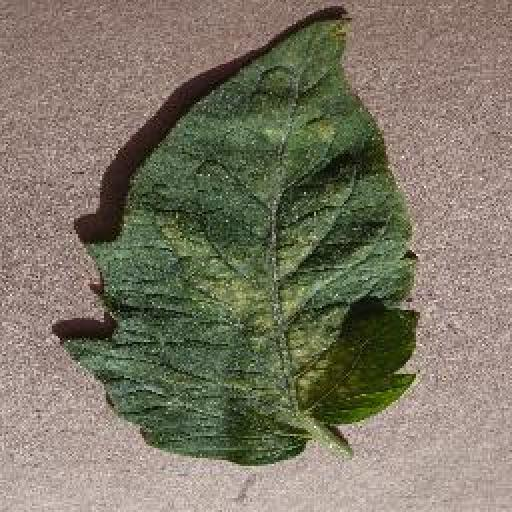disease_tomato: (57, 14, 419, 466)
